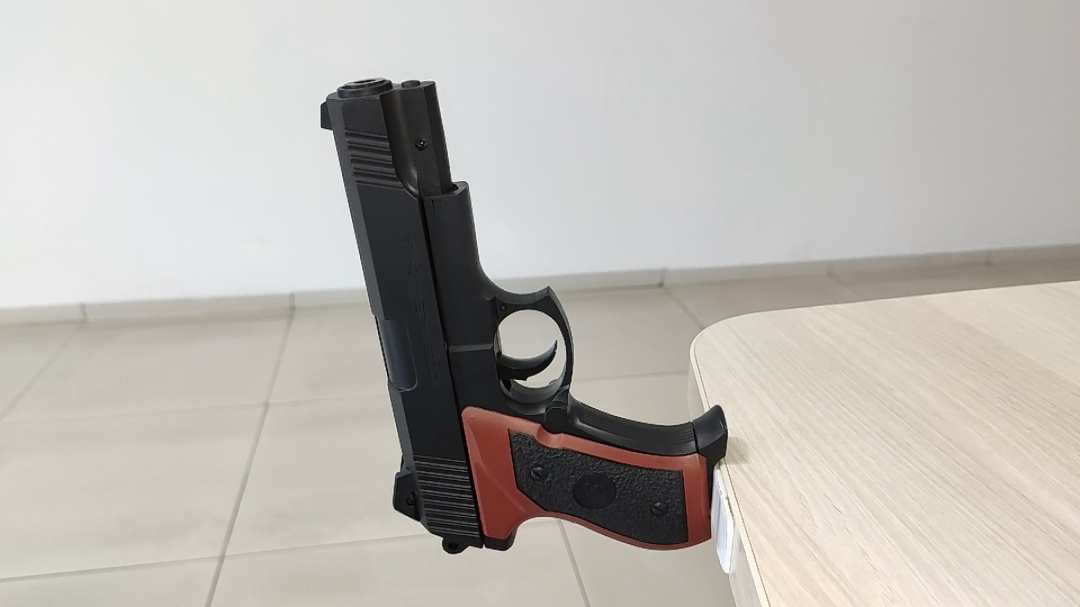gun: (317, 75, 733, 561)
